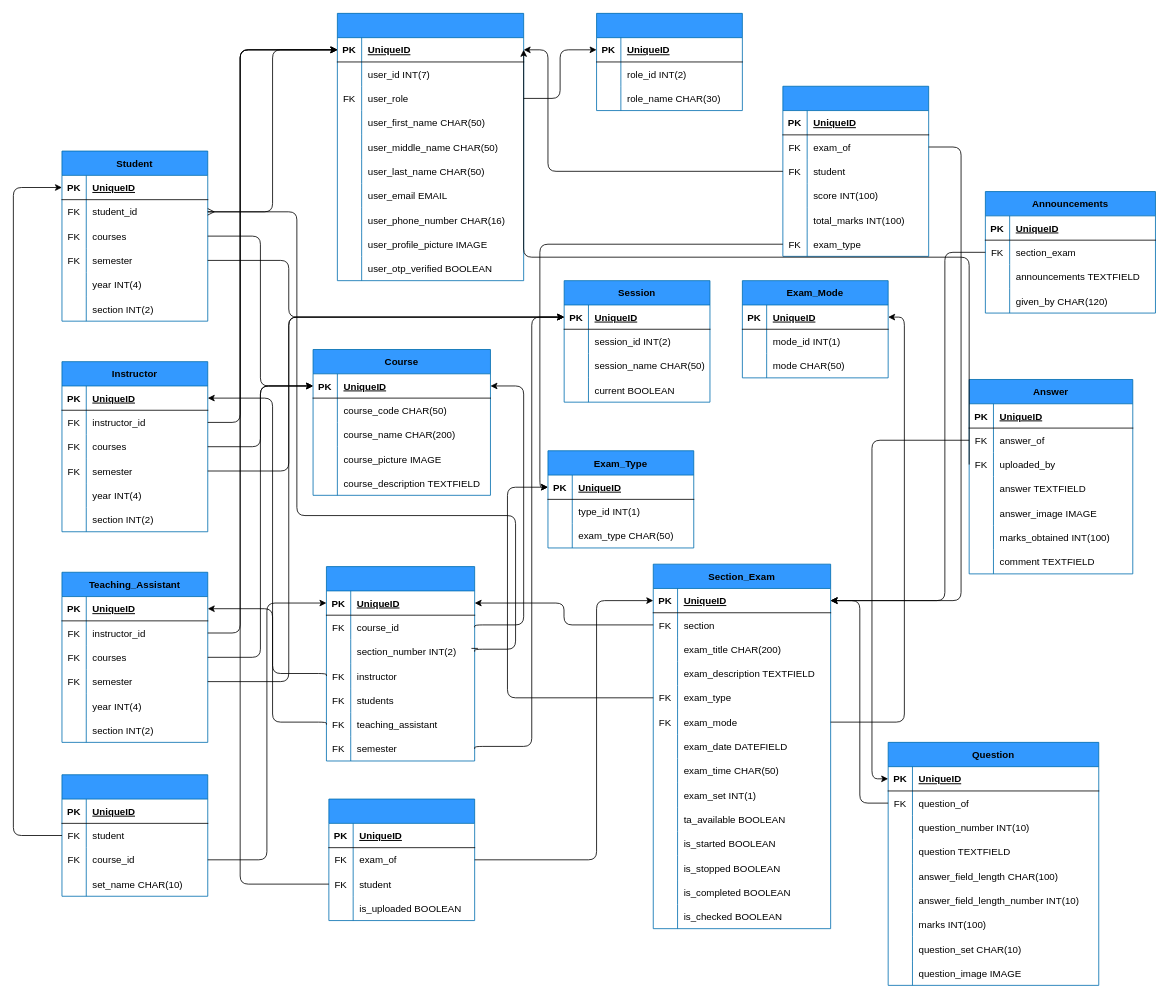
Image size: 1169x999. Some labels were removed from this diagram. The shapes that lost their labels are listed below. From the top down, each one's box as (x1, y1, x2, y2) in pixels, then its label:
(596, 13, 742, 111): Roles
(337, 13, 524, 281): School_Users
(782, 85, 929, 256): Student_Score
(326, 566, 475, 761): Course_Section
(61, 774, 208, 896): Shuffled_Papers
(328, 798, 475, 921): Exam_Submitted
